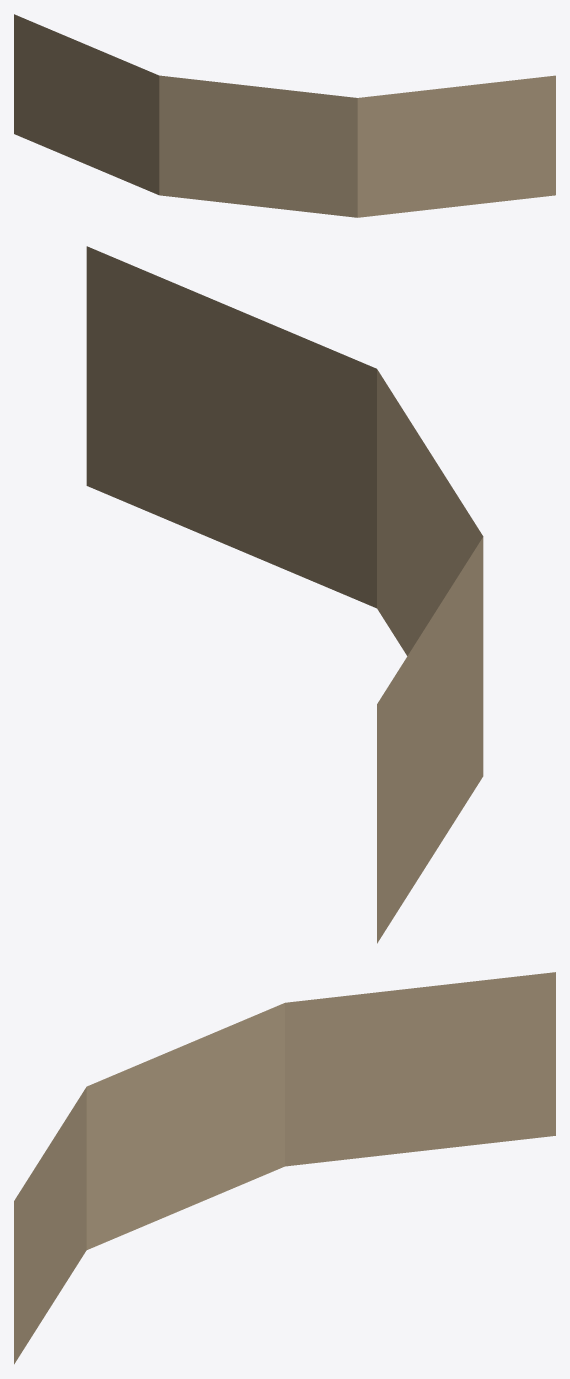
File: Escarpment_Terrain_Corner_Inner_3x3_Mid.fbx
The picture shows the model from 3 angles, top to bottom: view 1: azimuth 30°, elevation 25°; view 2: azimuth 150°, elevation 25°; view 3: azimuth 270°, elevation 25°; orthographic projection. The views are drawn at different scales.
Parts seen in each view (by area): view 1: object1; view 2: object1; view 3: object1.
Part boxes in pixels (x1,y1,x2,y2): object1: (14,14,555,217); object1: (86,246,483,943); object1: (14,972,555,1364).
Bounding box in the file's own units: 3 × 1 × 3.
